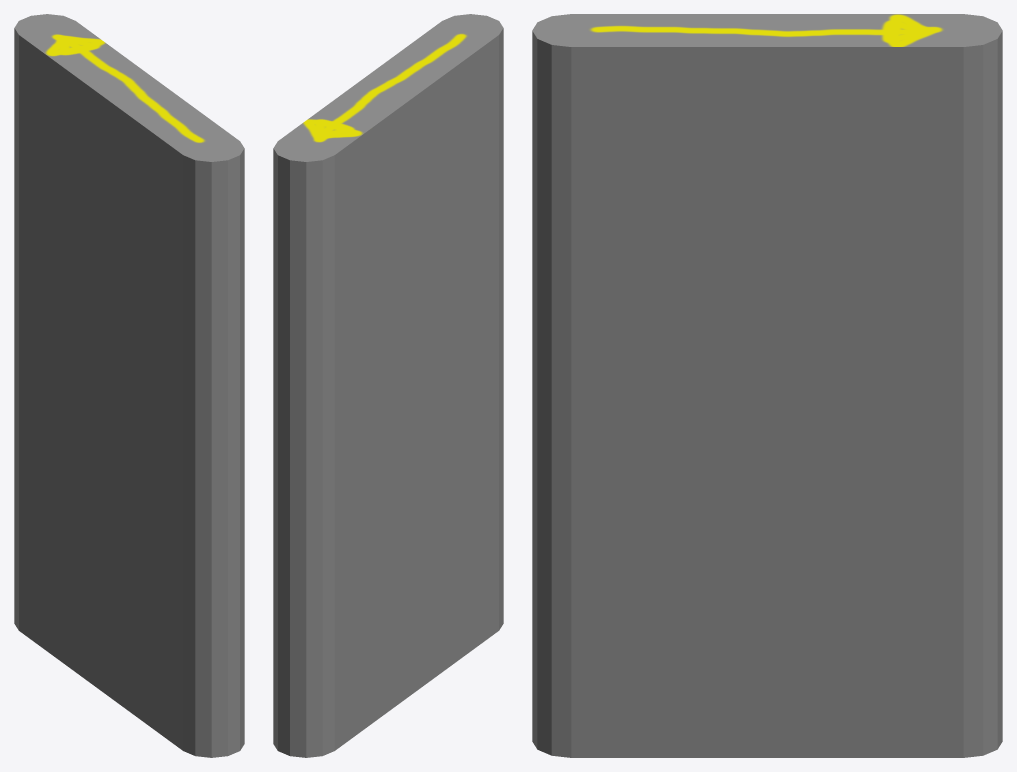
The model's file is wall.fbx.
3 views of the same model, side by side, from view 1: azimuth 30°, elevation 25°; view 2: azimuth 150°, elevation 25°; view 3: azimuth 270°, elevation 25° (orthographic). The views are drawn at different scales.
Visible parts, largest first — view 1: Cube; view 2: Cube; view 3: Cube.
Part boxes in pixels (x1=…): Cube: x1=14, y1=14, x2=244, y2=757; Cube: x1=273, y1=14, x2=503, y2=757; Cube: x1=532, y1=14, x2=1002, y2=757.
Bounding box in the file's own units: 20 × 200 × 120.
